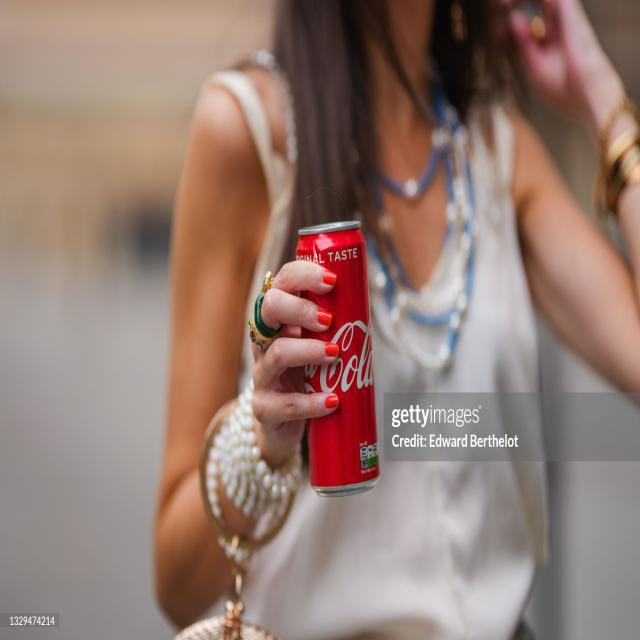can: (295, 219, 381, 498)
